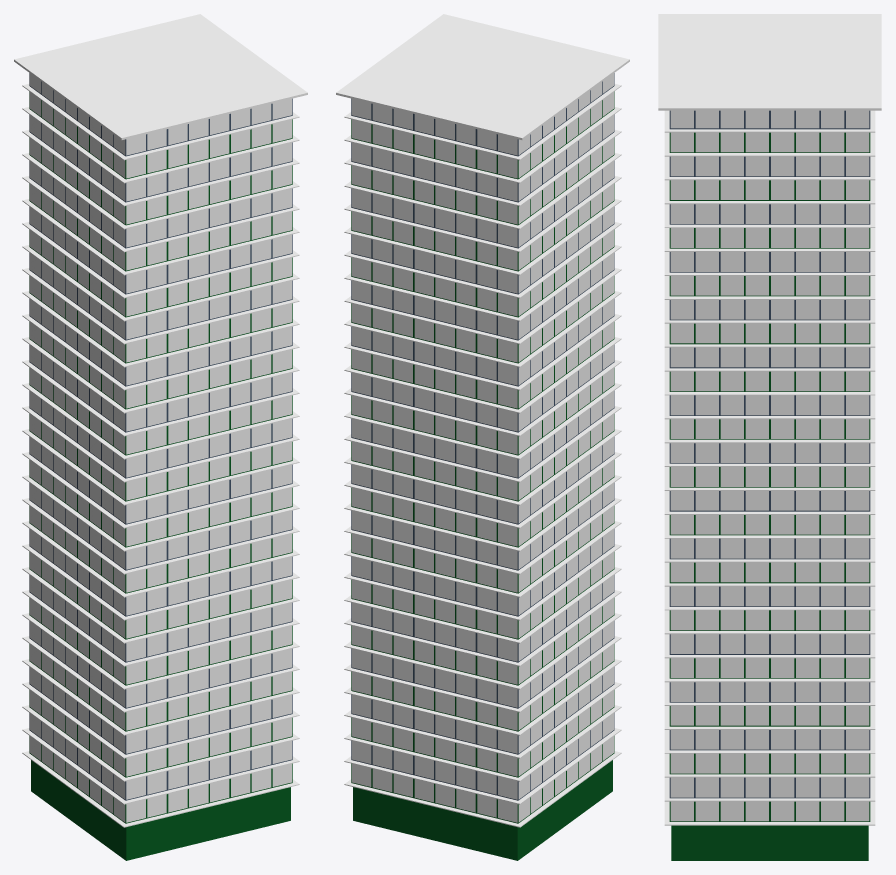
File: sky_30.glb
The picture shows the model from 3 angles, left to right: view 1: azimuth 30°, elevation 25°; view 2: azimuth 150°, elevation 25°; view 3: azimuth 270°, elevation 25°; orthographic projection. The views are drawn at different scales.
Parts seen in each view (by area): view 1: Plane.001, Plane.002, Plane; view 2: Plane.001, Plane.002, Plane; view 3: Plane.001, Plane.002, Plane.
Boxes of the visible parts, x1,y1,x2,y2 form: Plane.001: (22, 73, 299, 827); Plane.002: (14, 14, 307, 140); Plane: (31, 760, 290, 860); Plane.001: (344, 73, 621, 827); Plane.002: (336, 14, 629, 140); Plane: (353, 760, 612, 860); Plane.001: (664, 110, 875, 825); Plane.002: (658, 14, 881, 110); Plane: (671, 825, 868, 860).
Size of the model in its own units: 4.53 by 16.97 by 4.53.
